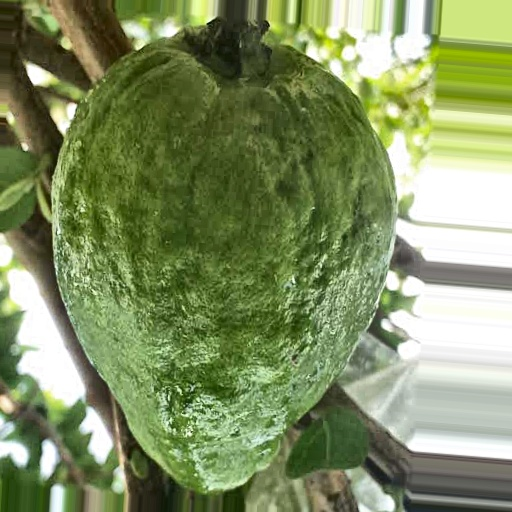guava: (69, 46, 512, 505)
